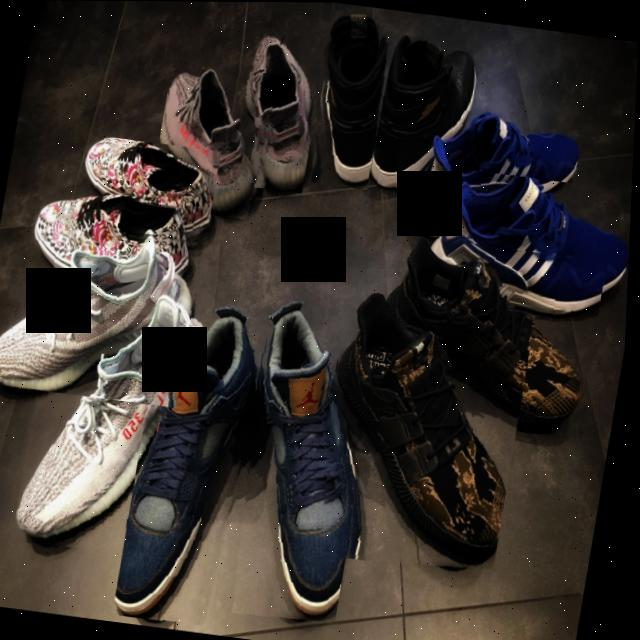shoe: (305, 288, 539, 578), (16, 274, 216, 562), (221, 296, 389, 625), (117, 291, 278, 628), (370, 232, 611, 438), (0, 211, 207, 407), (421, 165, 634, 327), (401, 103, 586, 250), (149, 59, 281, 220), (369, 28, 486, 198), (301, 7, 396, 189), (32, 188, 199, 291), (74, 133, 222, 244), (230, 30, 327, 193)
